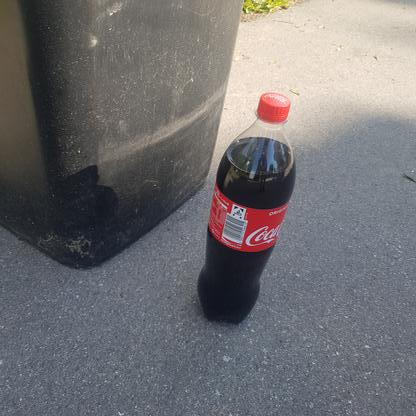coca-cola: (195, 92, 300, 331)
